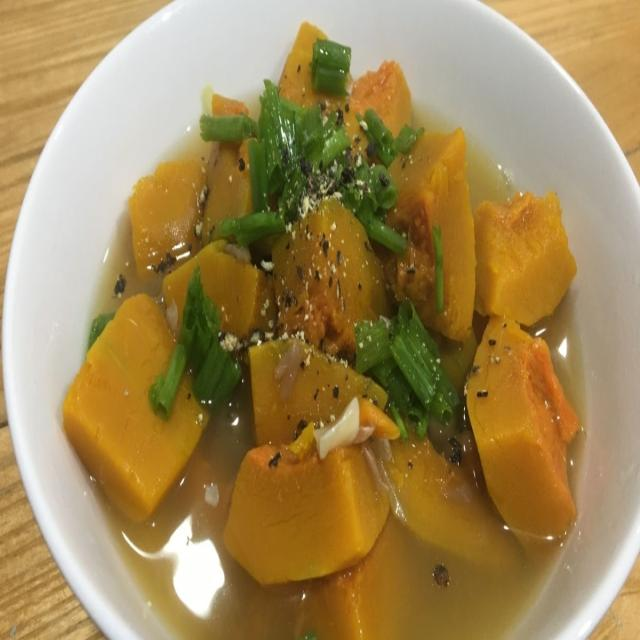canh bi do: (62, 24, 594, 639)
